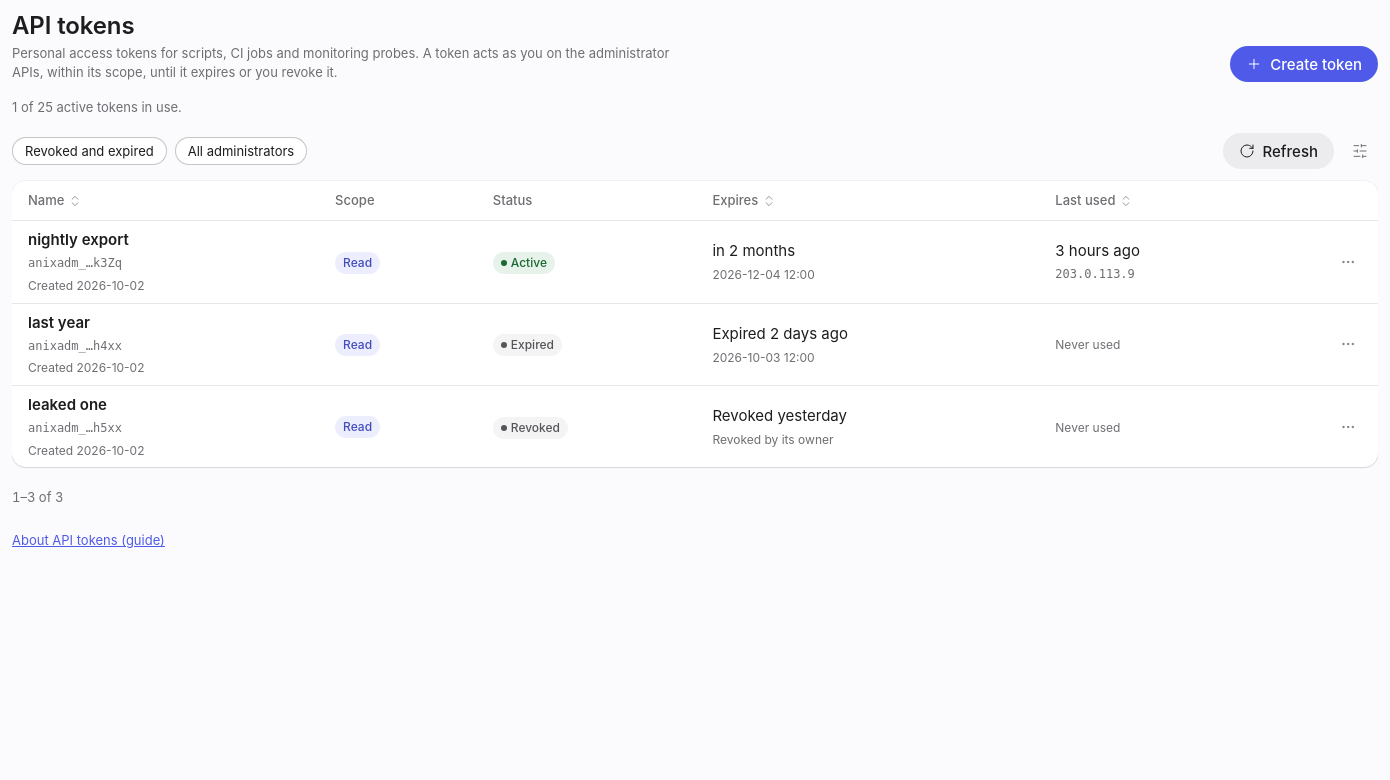
Test: Admin API tokens › shows ended tokens when asked, with Expired and Revoked and why
The width and height of the screenshot is (1390, 780).
Check: the heading "API tokens" is shown, box [12,11,134,40]
Click the button "Revoked and expired" at [89, 151], box [12,137,167,165]
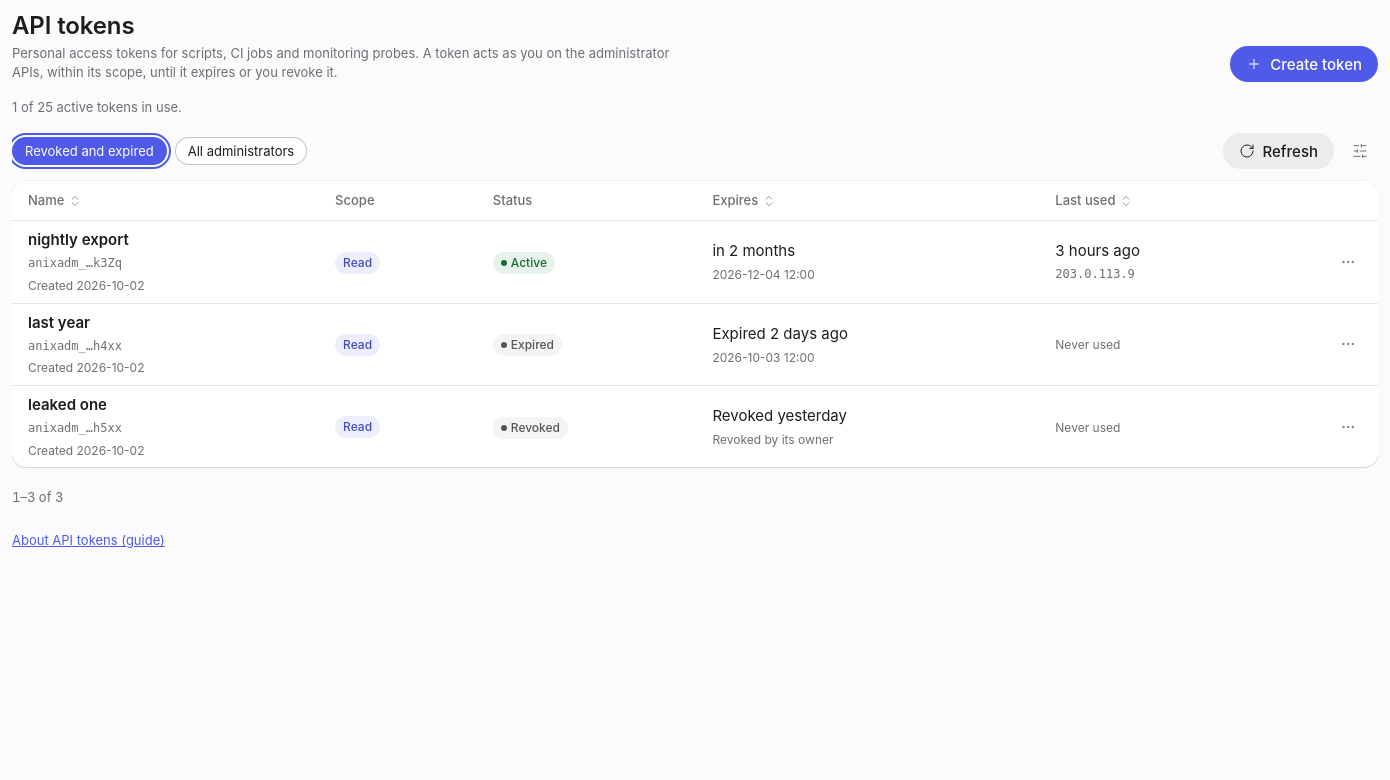
Check: the text "Expired" is shown, box [493,334,562,356]
Check: the text "Expired 2 days ago" is shown, box [712,322,848,344]
# An ended token cannot be revoked again: its menu has only the ID.
Click the button named "Actions for leaked one" at [1348, 427], box [1334,413,1362,441]
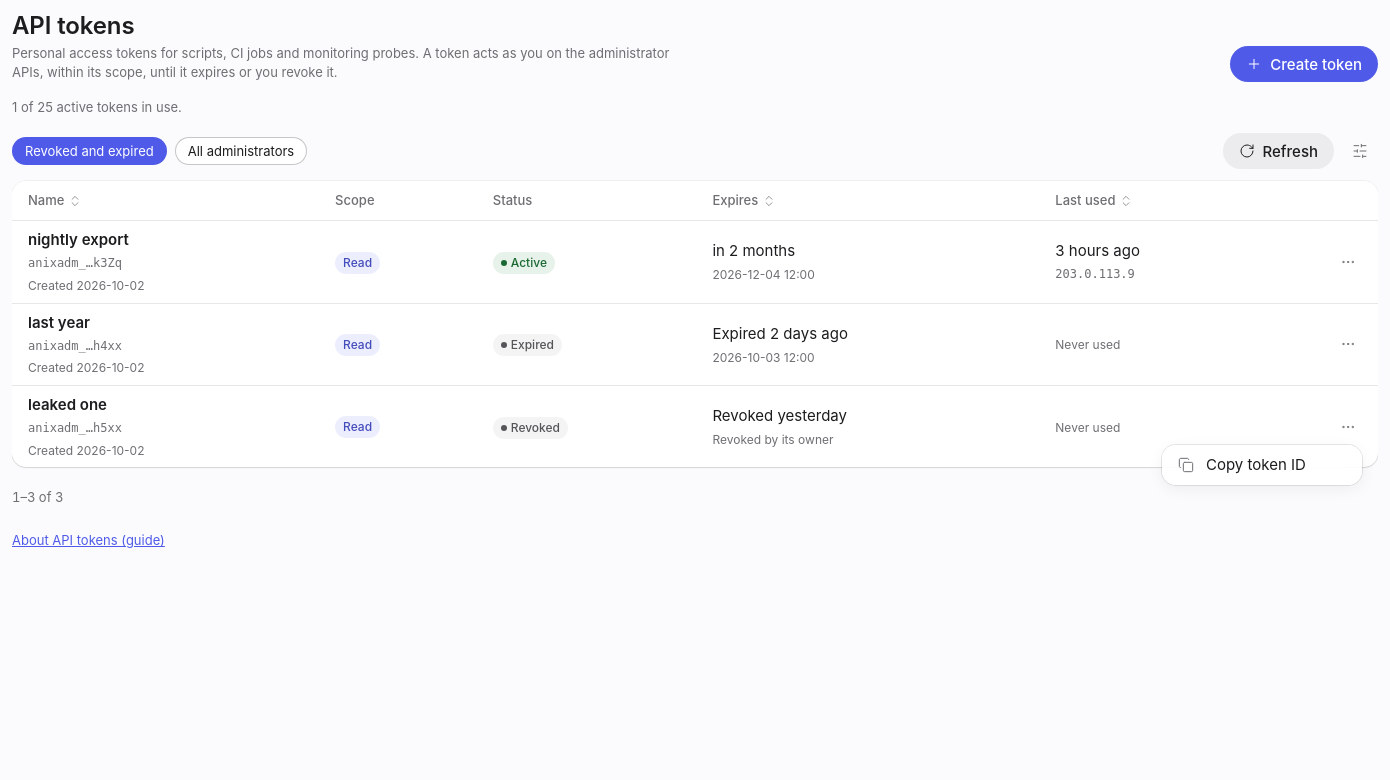
Check: the menu items read "Copy token ID", in this order, box [1178,455,1306,474]
